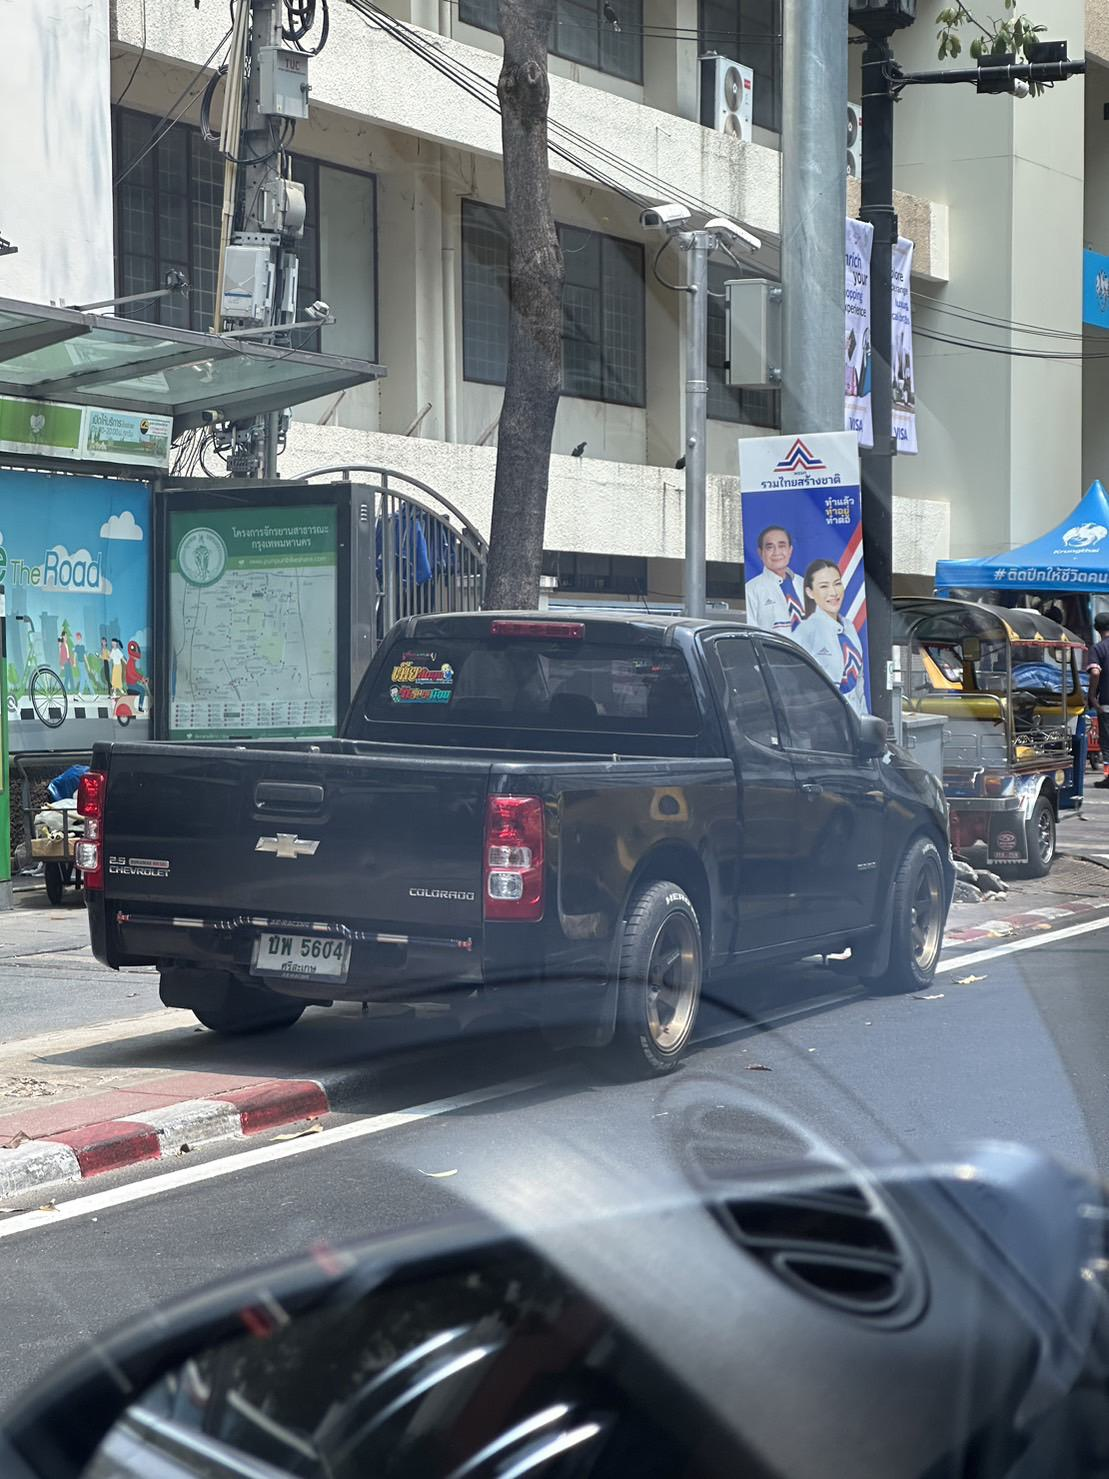Banner: (735, 431, 885, 729)
